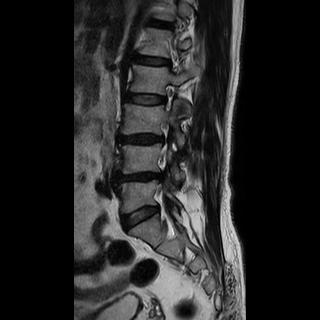RFS0: (156, 79, 179, 115)
